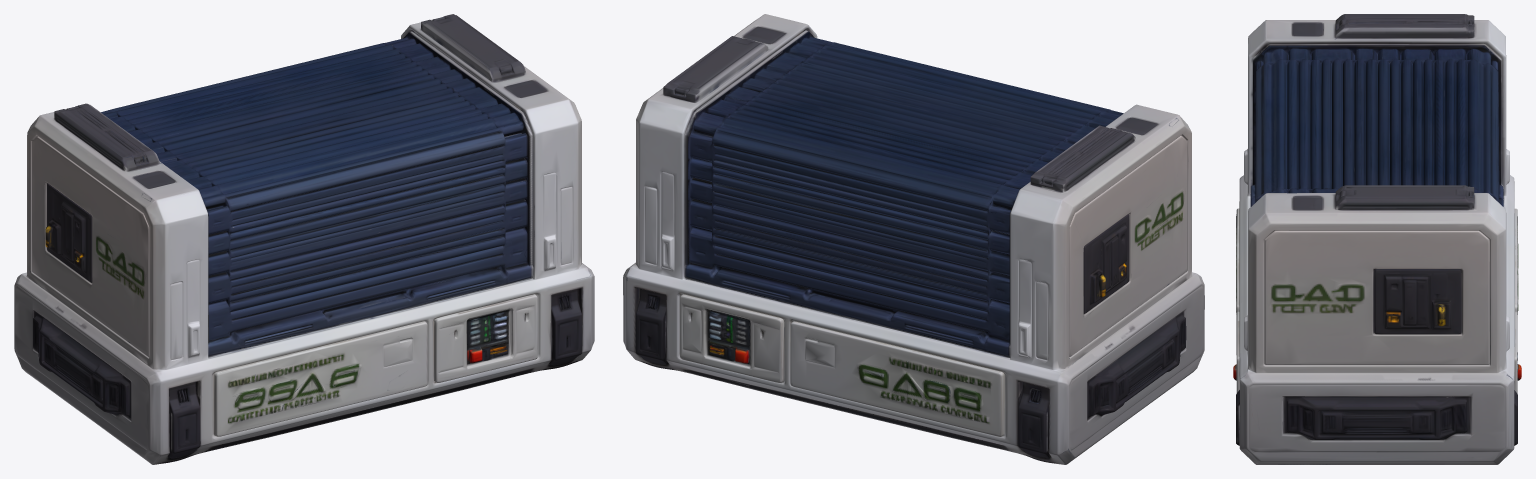
The model's file is award-08.glb.
3 views of the same model, side by side, from view 1: azimuth 30°, elevation 25°; view 2: azimuth 150°, elevation 25°; view 3: azimuth 270°, elevation 25° (orthographic). The views are drawn at different scales.
Parts seen in each view (by area): view 1: node_0; view 2: node_0; view 3: node_0.
Boxes of the visible parts, <box> form: node_0: <box>14,14,594,464</box>; node_0: <box>623,14,1204,464</box>; node_0: <box>1233,14,1521,464</box>.
Bounding box in the file's own units: 1.02 × 0.5702 × 0.5715.
1 material, 1 textured.
